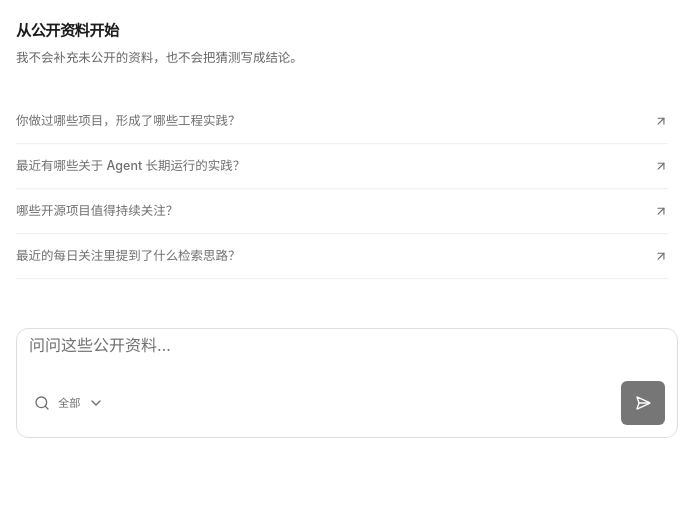
Scenario: AskChat visitor session recovery › announces a failed session and restores the composer after retry
Step 1. Focus the text box named "输入问题" → (347, 353), box [29, 329, 665, 377]
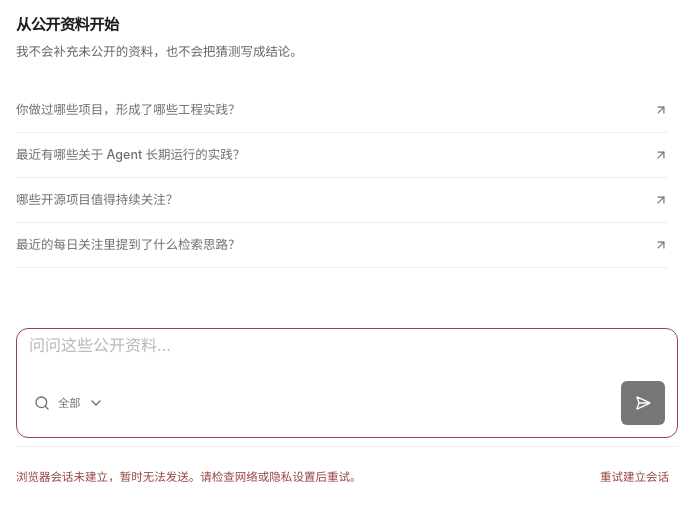
Expected: the message shows "浏览器会话未建立", [16, 470, 362, 484]
Expected: the text box named "输入问题" is disabled, [29, 329, 665, 377]
Step 2. Click the button "重试建立会话" → (634, 477), box [591, 455, 678, 499]
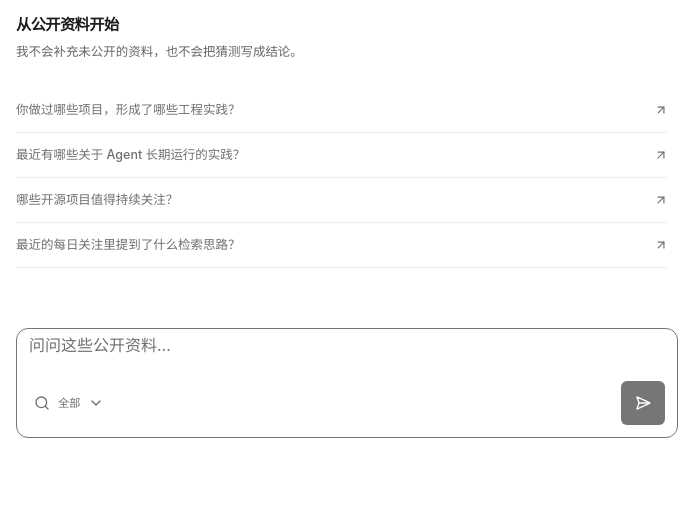
Expected: the text box named "输入问题" is enabled, [29, 329, 665, 377]
Expected: the message "浏览器会话未建立，暂时无法发送。请检查网络或隐私设置后重试。" is gone
